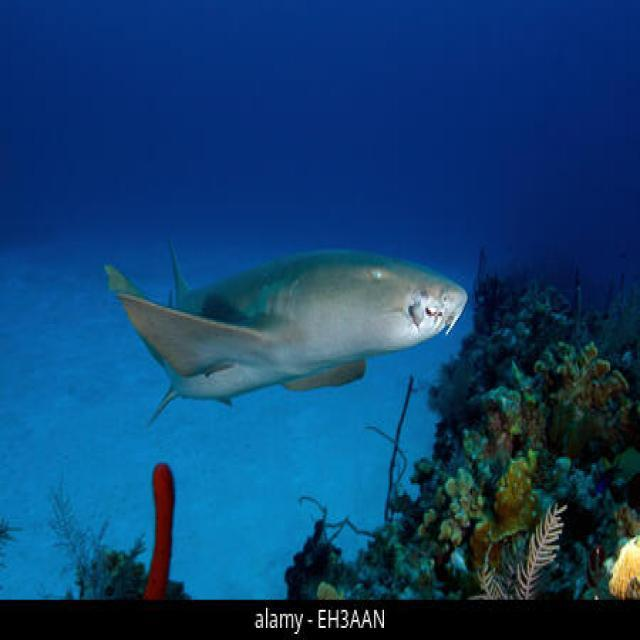Shark: (87, 199, 480, 435)
